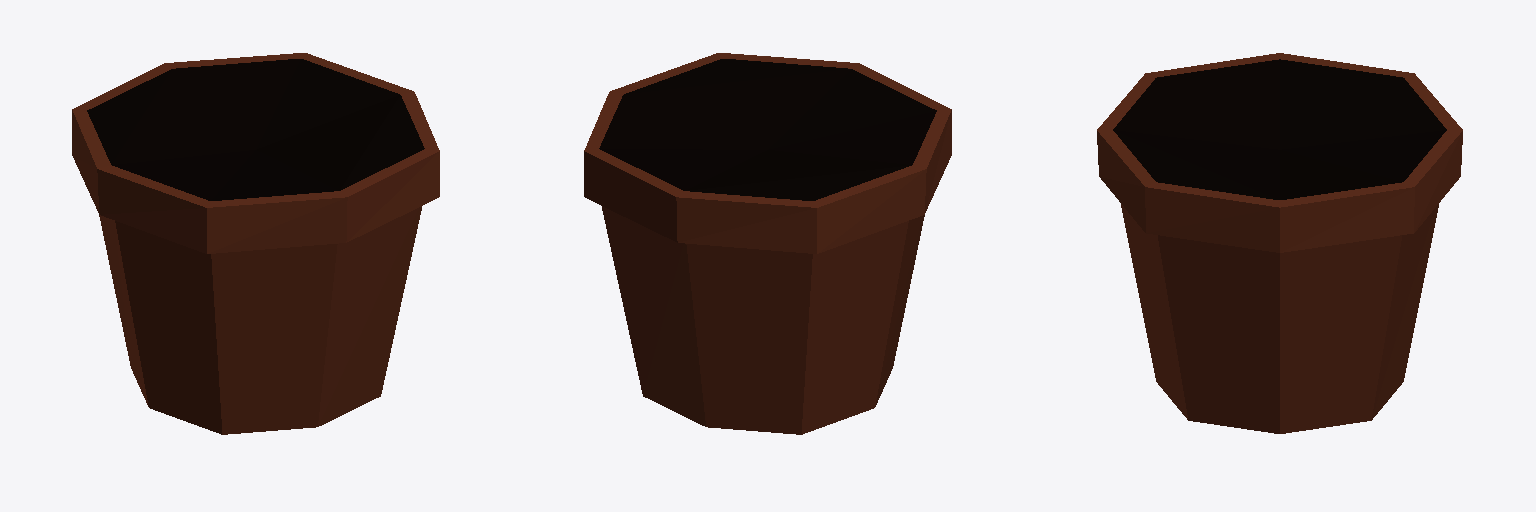
Rendered from pot2.obj.
The picture shows the model from 3 angles: view 1: azimuth 30°, elevation 25°; view 2: azimuth 150°, elevation 25°; view 3: azimuth 270°, elevation 25°; orthographic projection.
Parts seen in each view (by area): view 1: pCube48_Mesh.001; view 2: pCube48_Mesh.001; view 3: pCube48_Mesh.001.
Boxes of the visible parts, x1,y1,x2,y2 form: pCube48_Mesh.001: [72, 53, 439, 434]; pCube48_Mesh.001: [584, 53, 951, 434]; pCube48_Mesh.001: [1097, 53, 1462, 433].
Size of the model in its own units: 0.7207 by 0.5473 by 0.7207.